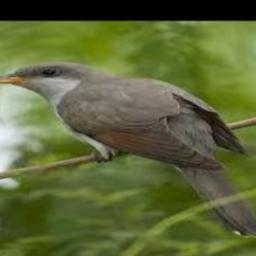Cuckoo: (0, 62, 256, 238)
